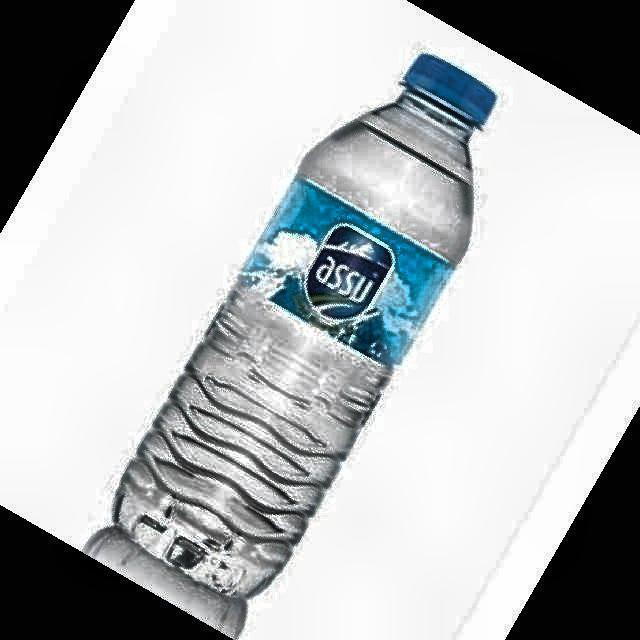plastic: (115, 54, 495, 598)
